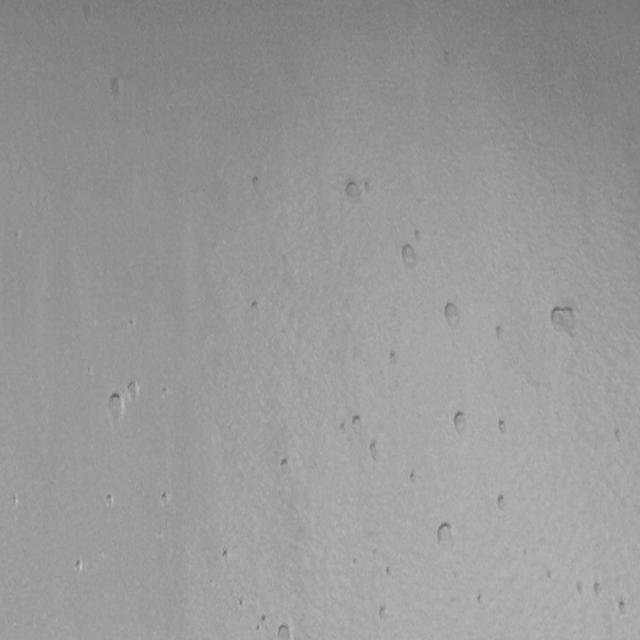pin holes: (547, 303, 584, 342), (440, 299, 464, 330), (433, 521, 457, 552), (105, 391, 126, 424), (396, 241, 419, 271), (343, 176, 366, 205), (106, 74, 127, 104), (76, 0, 98, 26), (451, 410, 472, 437), (366, 439, 385, 463), (124, 379, 142, 404), (246, 172, 264, 197), (610, 425, 628, 447), (8, 488, 24, 512), (273, 623, 293, 640), (494, 323, 509, 345), (590, 580, 606, 600), (246, 298, 262, 317), (388, 347, 404, 366), (616, 600, 631, 620), (376, 604, 392, 622), (498, 416, 512, 436), (496, 494, 510, 514), (574, 579, 588, 599), (349, 412, 364, 430), (278, 457, 292, 476), (159, 491, 173, 509), (407, 470, 421, 487), (103, 493, 116, 511), (475, 590, 488, 607), (412, 227, 425, 244), (220, 548, 232, 564), (72, 558, 84, 574), (259, 614, 271, 630), (382, 566, 394, 581), (126, 316, 137, 331), (236, 596, 247, 609), (160, 383, 168, 400)
